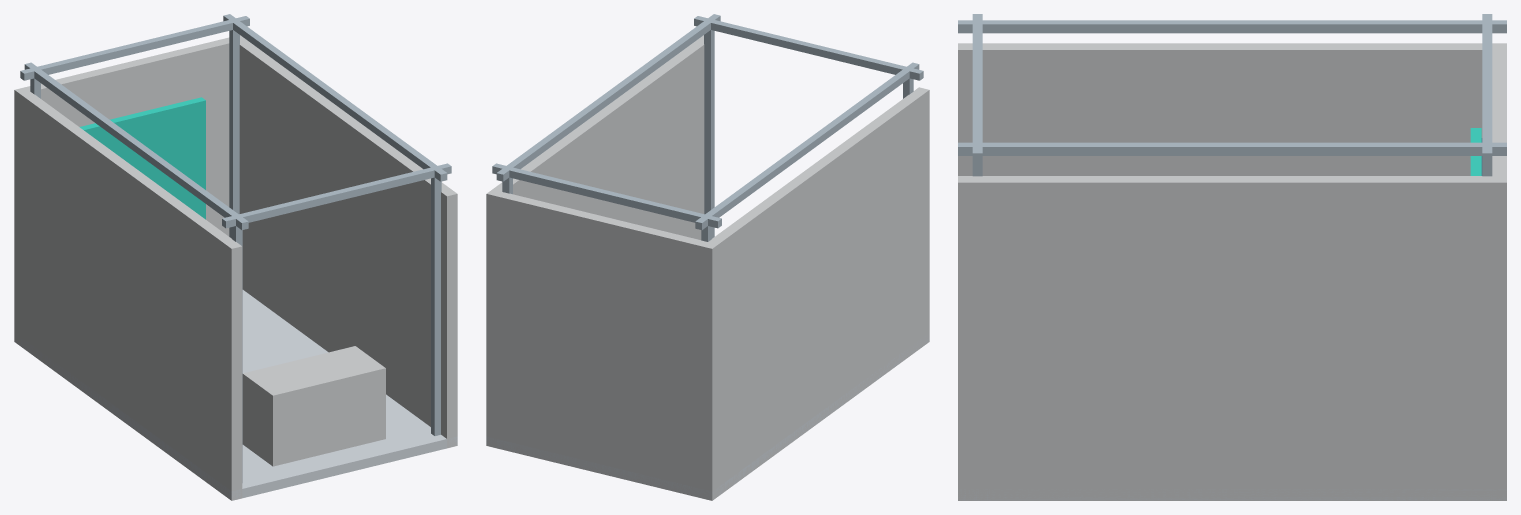
3 views of the same model, side by side, from view 1: azimuth 30°, elevation 25°; view 2: azimuth 150°, elevation 25°; view 3: azimuth 270°, elevation 25° (orthographic). The views are drawn at different scales.
Parts seen in each view (by area): view 1: Exhibition Booth Concept; view 2: Exhibition Booth Concept; view 3: Exhibition Booth Concept.
Boxes of the visible parts, bbox=[...] form: Exhibition Booth Concept: bbox=[14, 14, 457, 500]; Exhibition Booth Concept: bbox=[486, 14, 929, 500]; Exhibition Booth Concept: bbox=[958, 14, 1506, 500].
Bounding box in the file's own units: 3 × 3.49 × 5.
